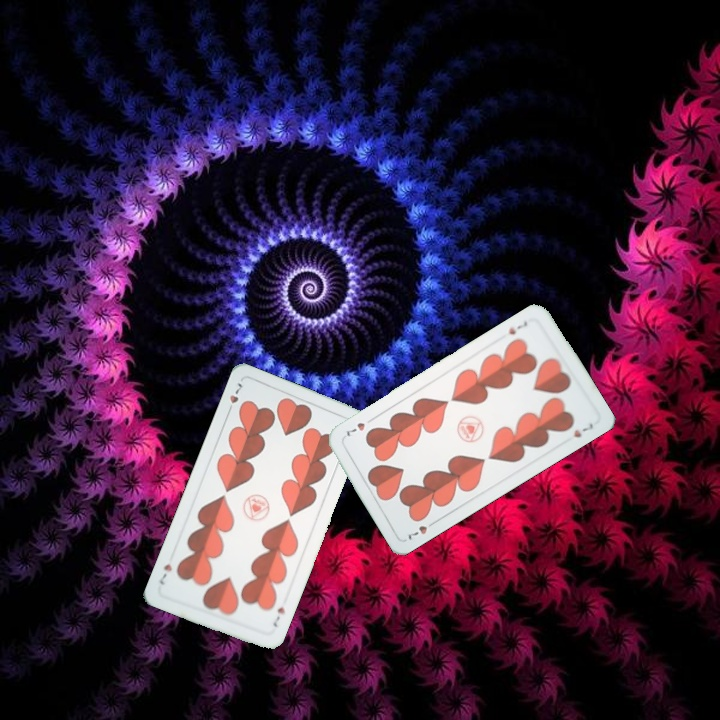H7: (404, 517, 439, 543), (223, 379, 247, 416), (268, 603, 288, 630), (504, 317, 530, 337)
